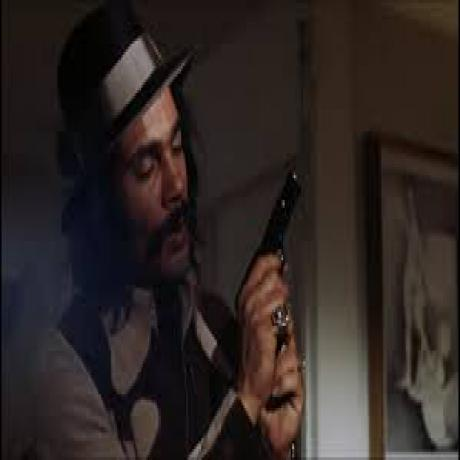Guns: (235, 166, 308, 417)
